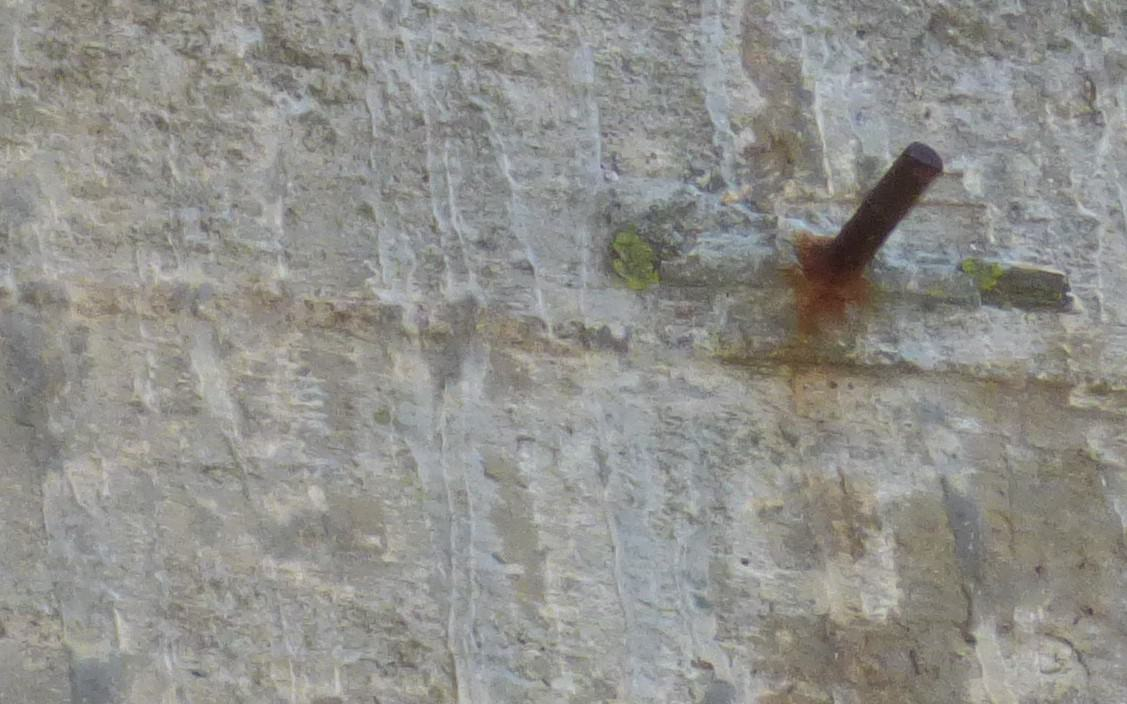Corrosion: (789, 228, 871, 339)
Exposed reinforcement: (824, 141, 945, 277)
